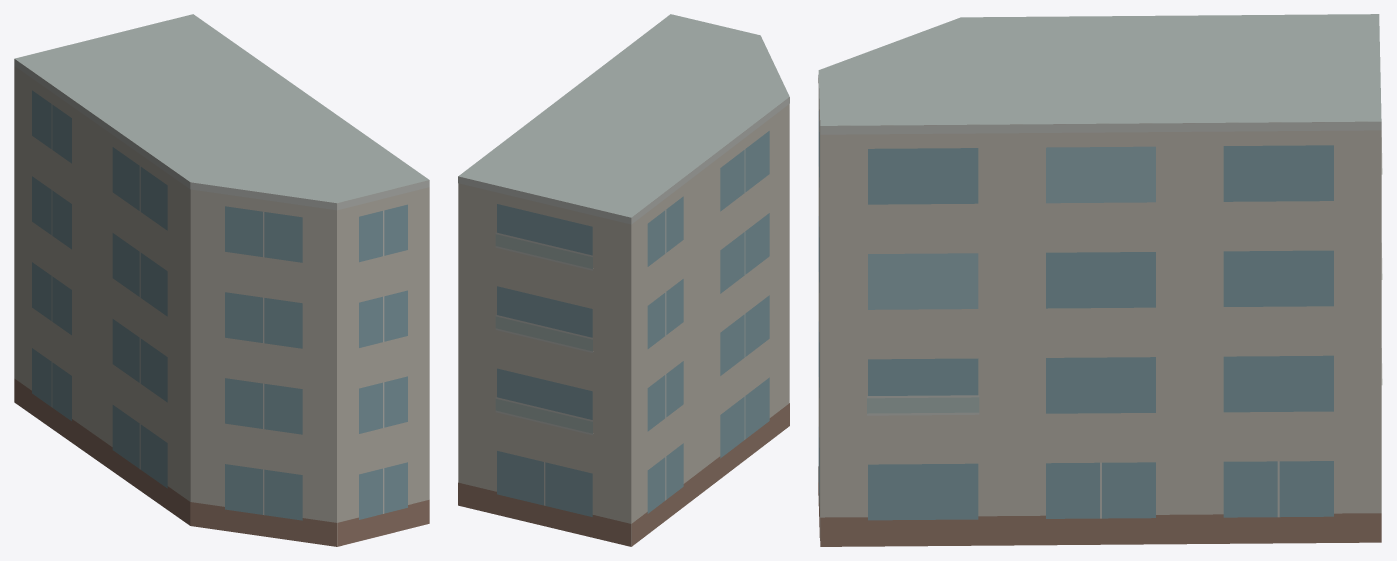
Rendered from survey-upis-32686038.glb.
3 views of the same model, side by side, from view 1: azimuth 30°, elevation 25°; view 2: azimuth 150°, elevation 25°; view 3: azimuth 270°, elevation 25° (orthographic). The views are drawn at different scales.
Visible parts, largest first — view 1: survey-upis-32686038.tmp; view 2: survey-upis-32686038.tmp; view 3: survey-upis-32686038.tmp.
Part boxes in pixels (bbox=[...]): survey-upis-32686038.tmp: bbox=[14, 14, 429, 546]; survey-upis-32686038.tmp: bbox=[458, 14, 789, 546]; survey-upis-32686038.tmp: bbox=[818, 14, 1382, 546].
Bounding box in the file's own units: 6.69 × 11.7 × 14.21.
